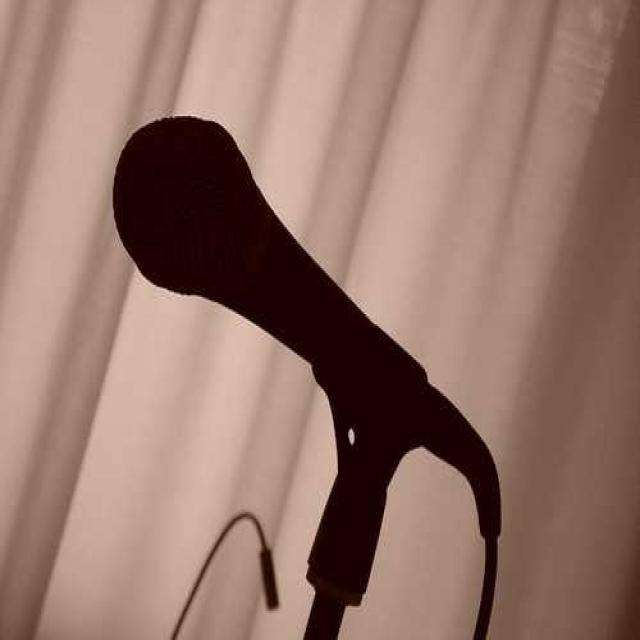microphone: (107, 104, 460, 403), (221, 514, 284, 613)
